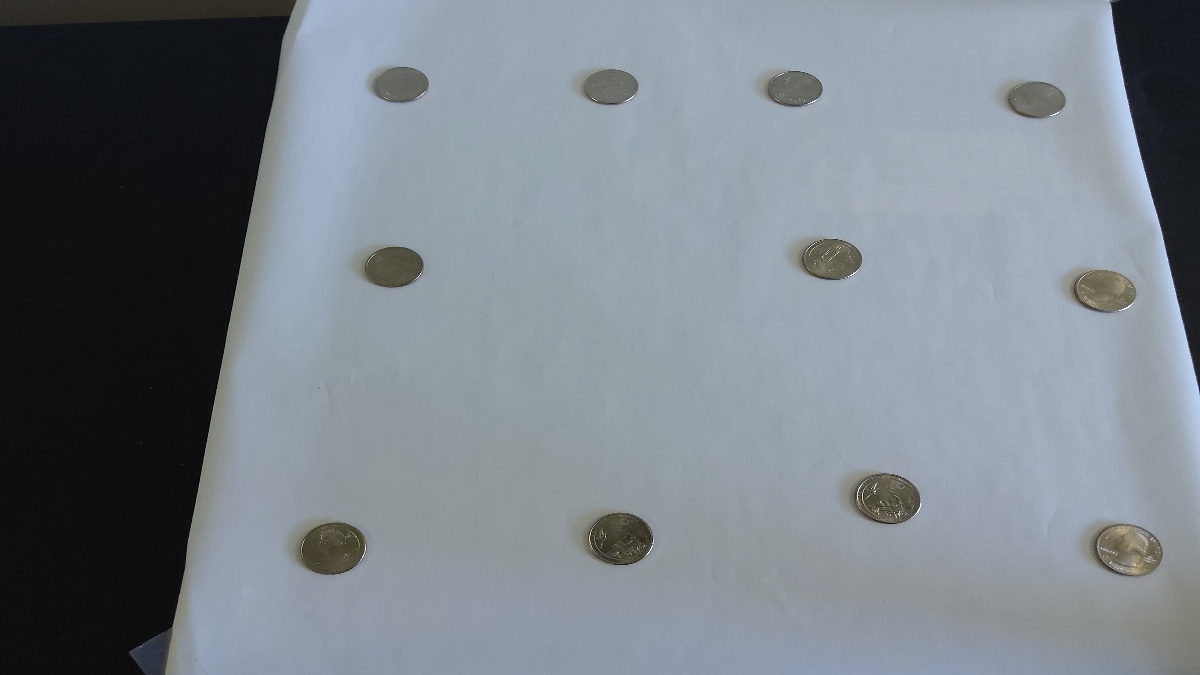coin_quarter: (577, 508, 664, 571), (849, 461, 924, 532), (1089, 516, 1169, 582), (296, 519, 372, 581), (793, 232, 868, 286), (1071, 263, 1140, 319), (360, 241, 429, 292), (1003, 76, 1072, 124), (579, 61, 644, 110), (763, 65, 828, 111), (368, 62, 436, 105)
